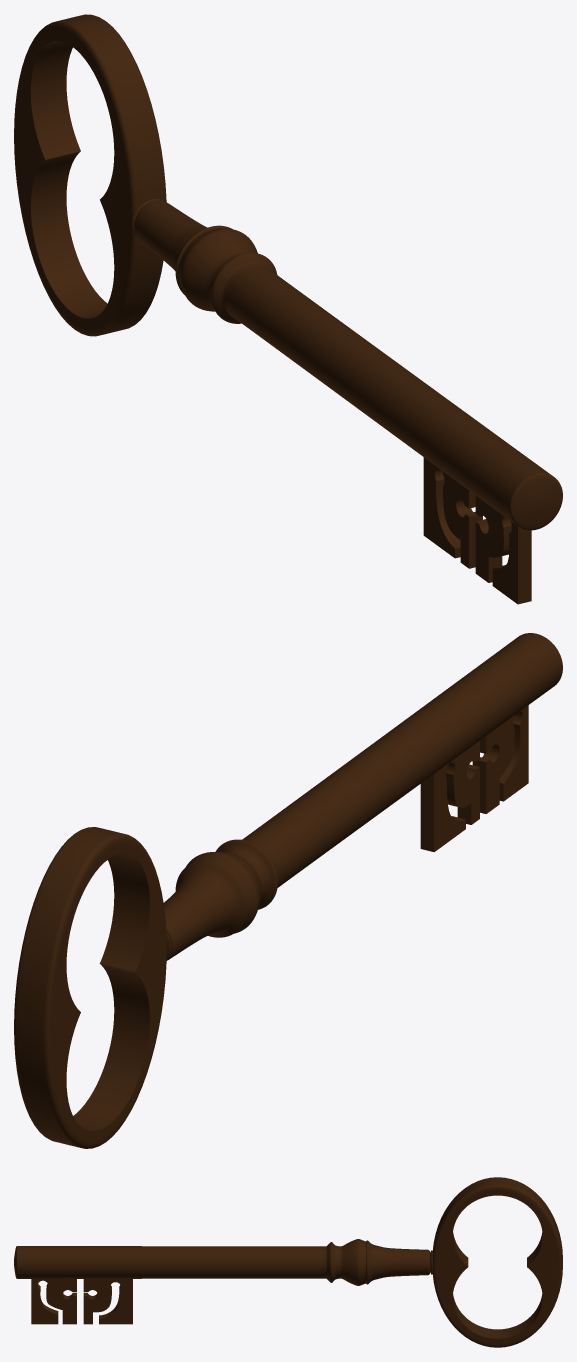
Rendered from Key.fbx.
The picture shows the model from 3 angles, top to bottom: view 1: azimuth 30°, elevation 25°; view 2: azimuth 150°, elevation 25°; view 3: azimuth 270°, elevation 25°; orthographic projection. The views are drawn at different scales.
Visible parts, largest first — view 1: Line001; view 2: Line001; view 3: Line001.
Part boxes in pixels (x1,y1,x2,y2): Line001: (14,14,562,604); Line001: (14,633,562,1148); Line001: (14,1177,562,1347).
Bounding box in the file's own units: 50.68 × 194 × 591.
